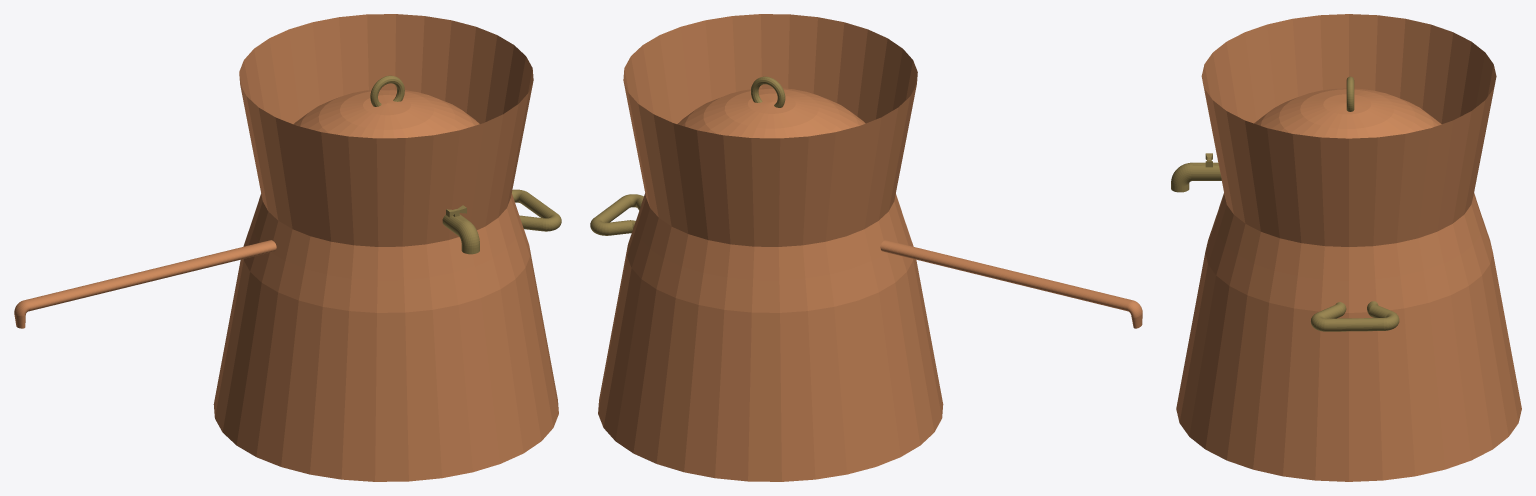
The model's file is truc à café.glb.
The picture shows the model from 3 angles, left to right: view 1: azimuth 30°, elevation 25°; view 2: azimuth 150°, elevation 25°; view 3: azimuth 270°, elevation 25°; orthographic projection.
Visible parts, largest first — view 1: Cylinder, Sphere, Cylinder.001, Cylinder.003, Cylinder.002; view 2: Cylinder, Sphere, Cylinder.001, Cylinder.003; view 3: Cylinder, Sphere, Cylinder.003, Cylinder.002.
Part boxes in pixels (x1=…): Cylinder: x1=213, y1=14, x2=558, y2=481; Sphere: x1=293, y1=89, x2=479, y2=138; Cylinder.001: x1=14, y1=240, x2=276, y2=328; Cylinder.003: x1=512, y1=189, x2=561, y2=231; Cylinder.002: x1=442, y1=205, x2=479, y2=254; Cylinder: x1=598, y1=14, x2=943, y2=481; Sphere: x1=677, y1=88, x2=865, y2=138; Cylinder.001: x1=880, y1=240, x2=1142, y2=328; Cylinder.003: x1=590, y1=194, x2=643, y2=235; Cylinder: x1=1176, y1=14, x2=1521, y2=481; Sphere: x1=1254, y1=88, x2=1441, y2=138; Cylinder.003: x1=1311, y1=301, x2=1399, y2=331; Cylinder.002: x1=1171, y1=153, x2=1221, y2=192.
Size of what is drawn, in the model's own units: 3.55 by 2.12 by 2.03.
